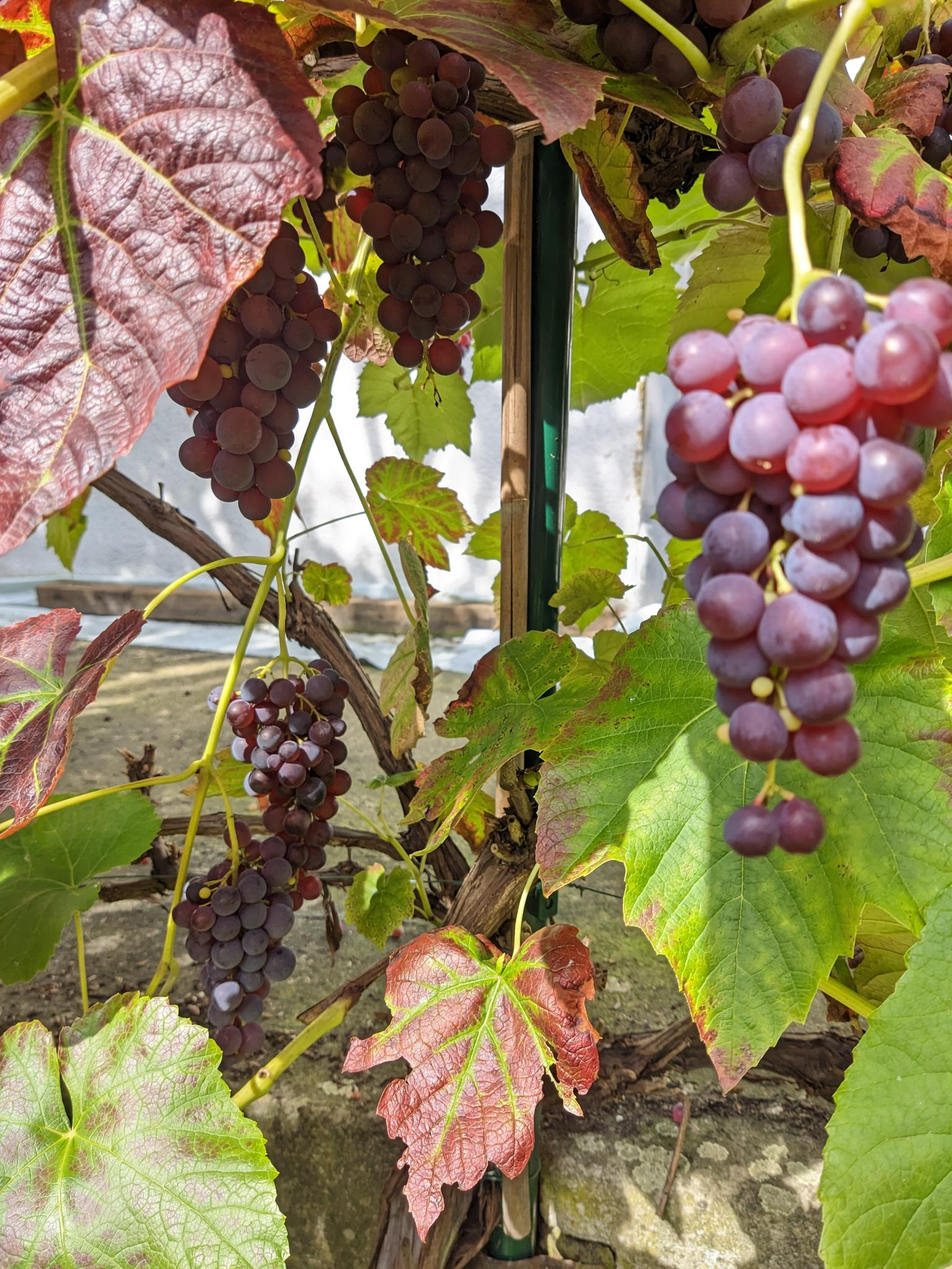Grape Ripe: (663, 274, 952, 859), (330, 25, 514, 378), (164, 221, 339, 523), (206, 658, 356, 912), (171, 820, 295, 1068), (841, 18, 952, 267), (703, 45, 839, 218), (564, 0, 774, 83), (291, 134, 337, 253)
